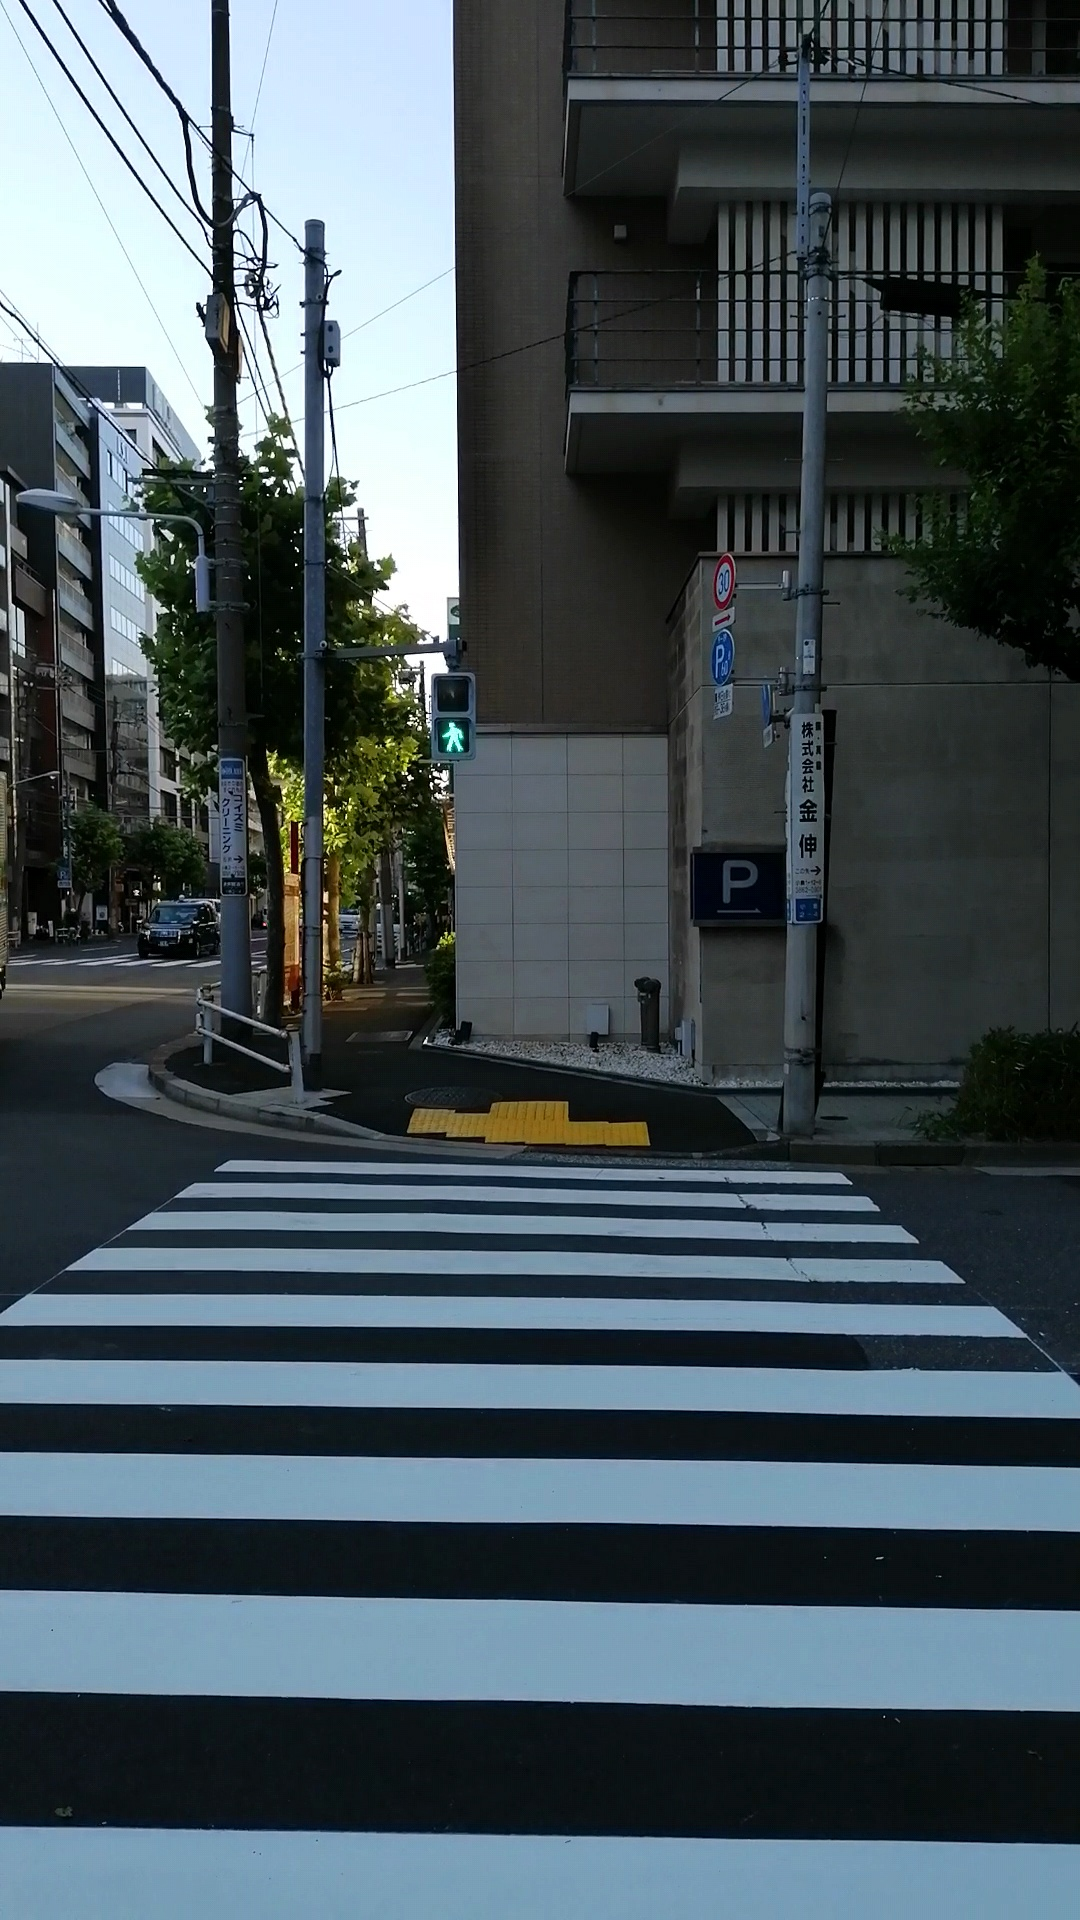green: (429, 671, 476, 761)
